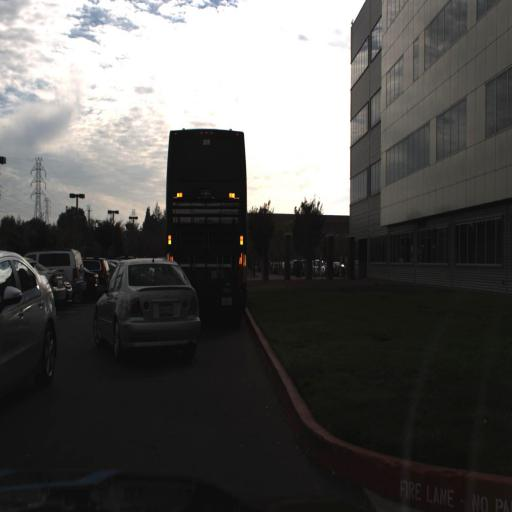car: (91, 256, 200, 358), (0, 244, 61, 399), (30, 239, 86, 283), (310, 254, 329, 278)
truck: (161, 123, 251, 300)
